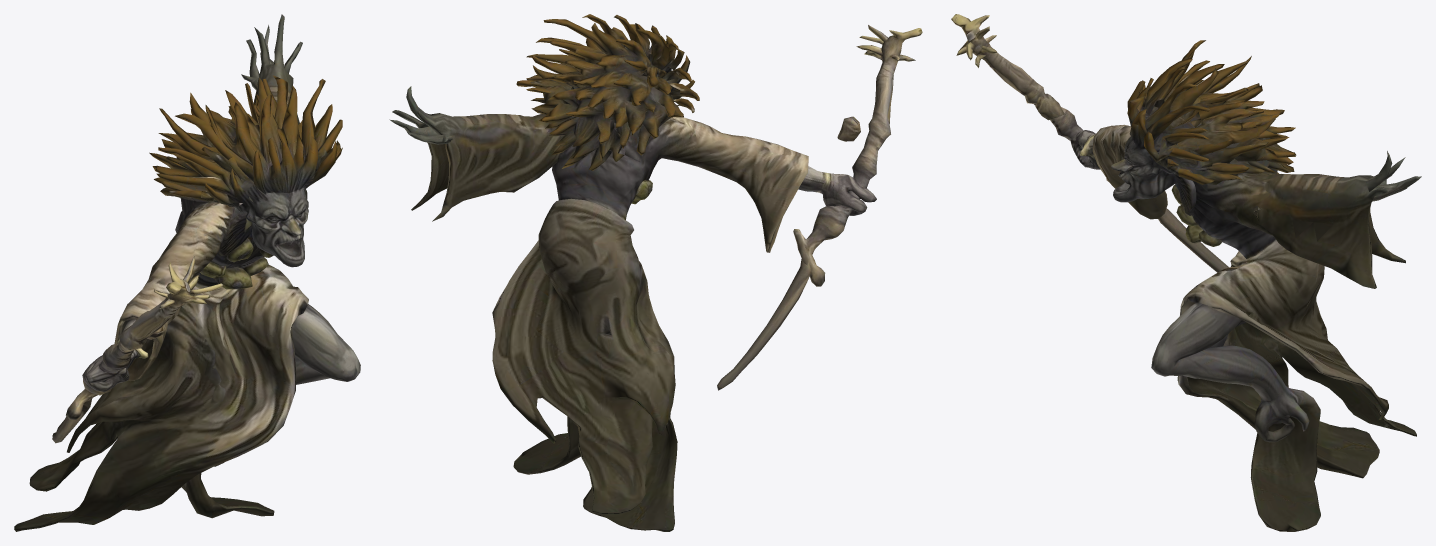
File: cursed_hags.glb
The picture shows the model from 3 angles, left to right: view 1: azimuth 30°, elevation 25°; view 2: azimuth 150°, elevation 25°; view 3: azimuth 270°, elevation 25°; orthographic projection. The views are drawn at different scales.
Bounding box in the file's own units: 0.8392 × 1 × 0.9652.
Materials: 1 (1 with a texture image).
